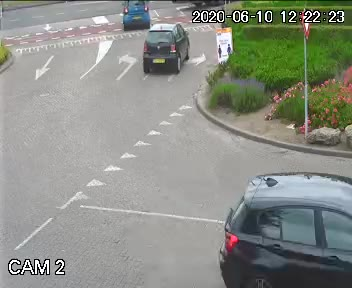car: (211, 166, 352, 288), (134, 22, 191, 82), (117, 0, 149, 33)
